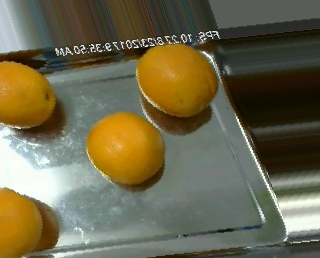Orange: (136, 42, 219, 118), (86, 110, 166, 183), (1, 58, 57, 129)
